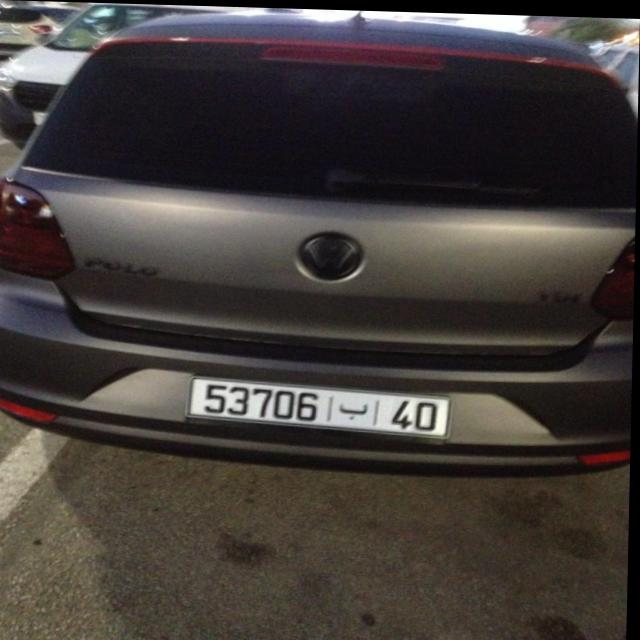License-Plate: (190, 376, 452, 435)
